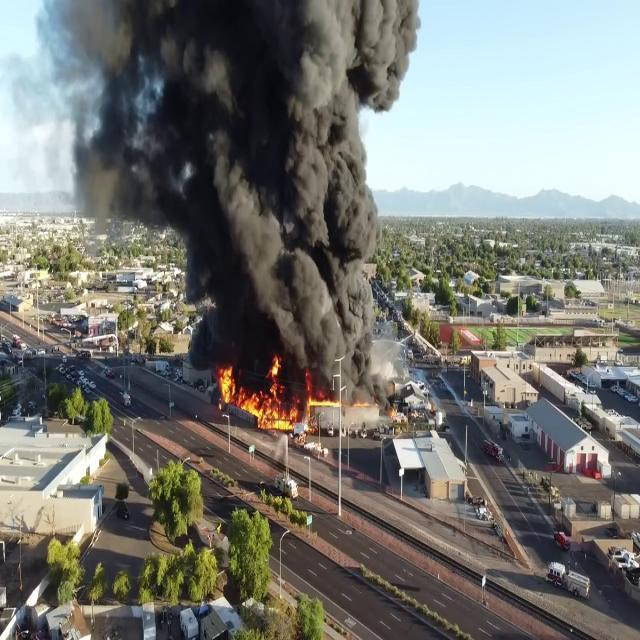Fire: (222, 356, 308, 434)
Smoke: (61, 0, 428, 395)
